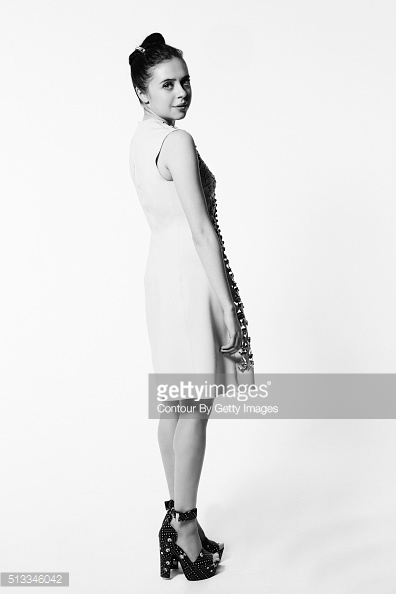em pe: (108, 18, 240, 388)
